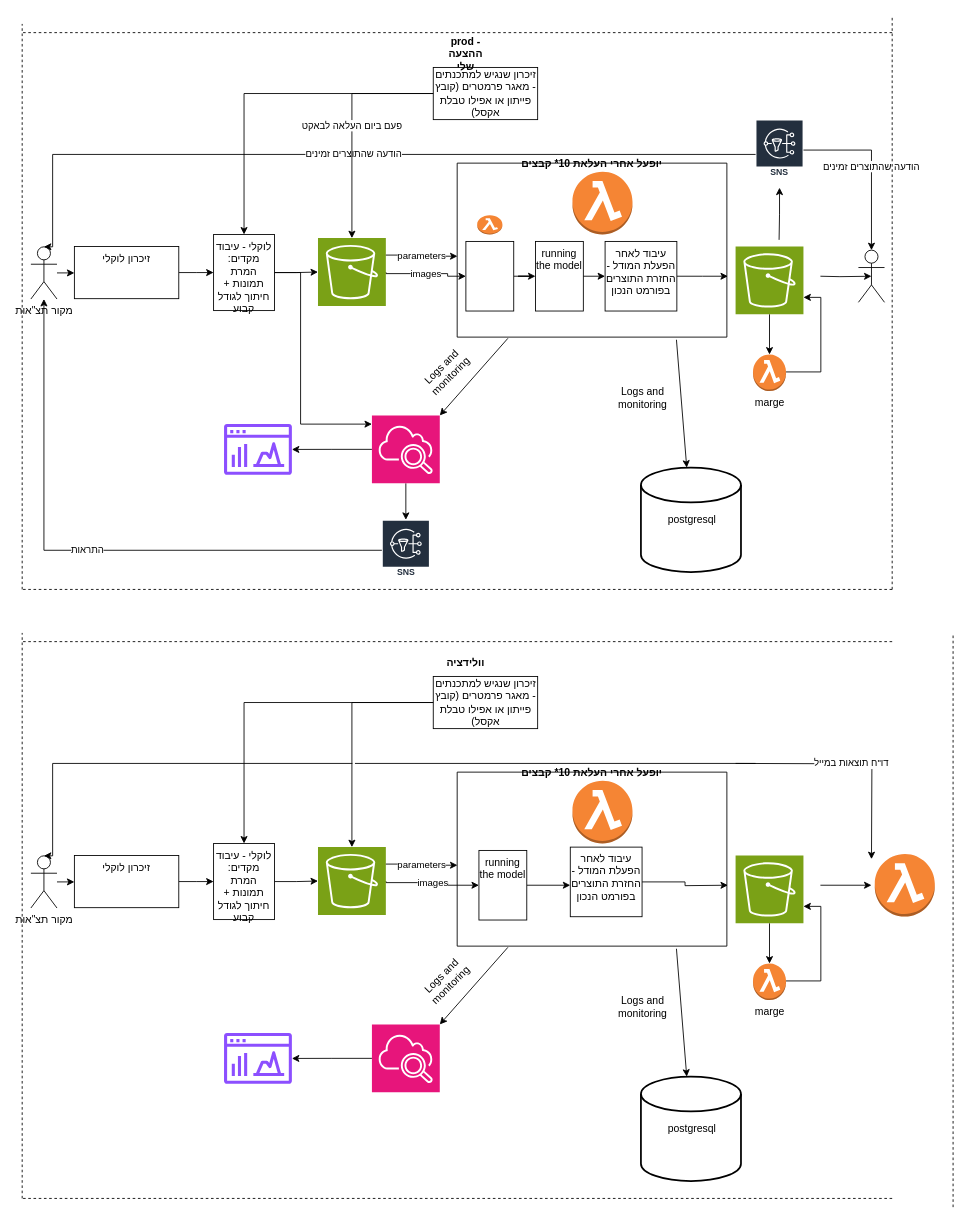
The diagram is 969 pixels wide and 1223 high, and some of its shapes have lost their labels. The shapes that lost their labels are listed below. From the top down, each one's centre as x and y in pixels, then its label:
[489,276]: lambada - activate lambada by the ofset file
[871,275]: צרכן/אפליקציה
[904,885]: השוואת תצר המודל לתיוג הידני וקבלת ציון
